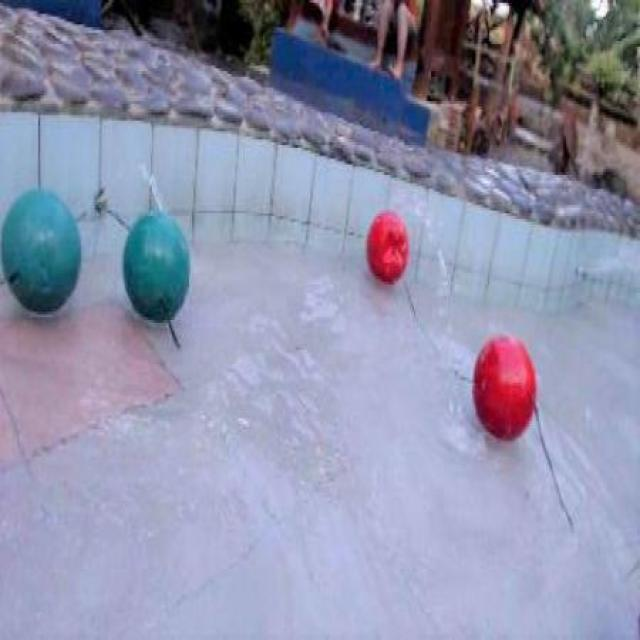buoy: (1, 190, 79, 313), (121, 212, 190, 324), (472, 329, 538, 442), (366, 206, 406, 286)
